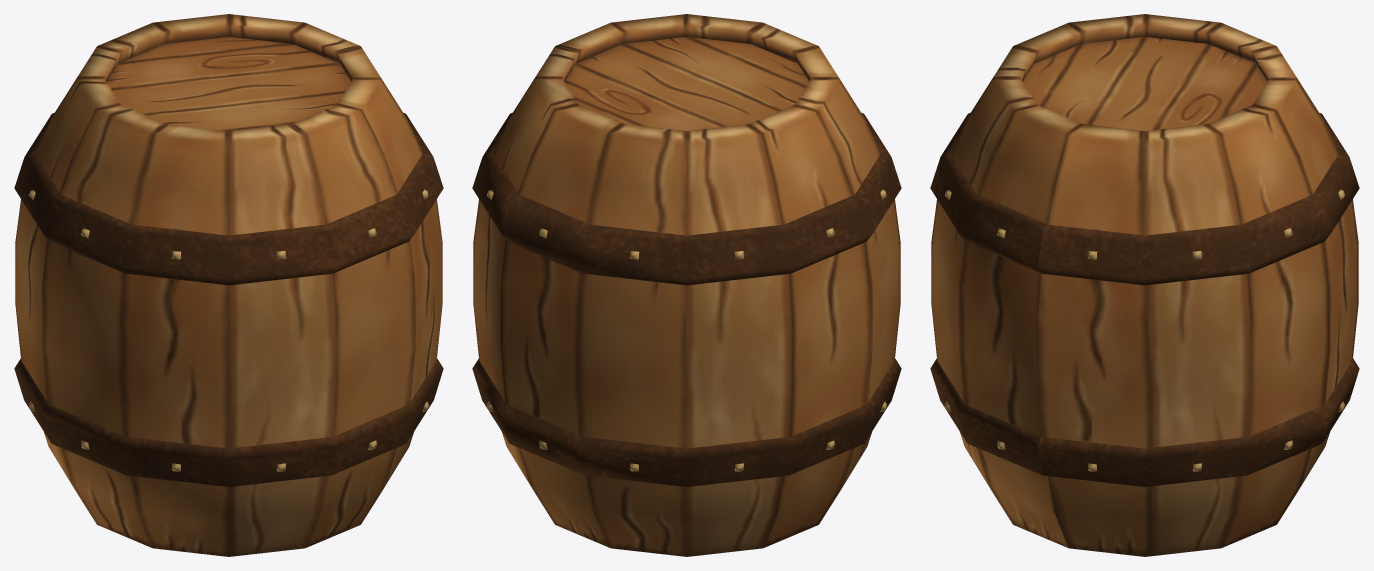
File: barrel.gltf
3 views of the same model, side by side, from view 1: azimuth 30°, elevation 25°; view 2: azimuth 150°, elevation 25°; view 3: azimuth 270°, elevation 25° (orthographic).
Visible parts, largest first — view 1: Object_3; view 2: Object_3; view 3: Object_3.
Boxes of the visible parts, left/top/right/bottom form: Object_3: left=14, top=14, right=443, bottom=556; Object_3: left=472, top=14, right=901, bottom=556; Object_3: left=930, top=14, right=1359, bottom=556.
Size of what is drawn, in the model's own units: 0.9394 by 1 by 0.9394.
1 material, 1 textured.
